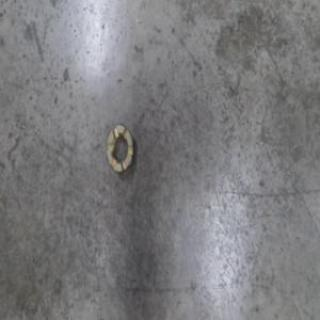Nuttrack_idkeyframe: (104, 120, 134, 174)
